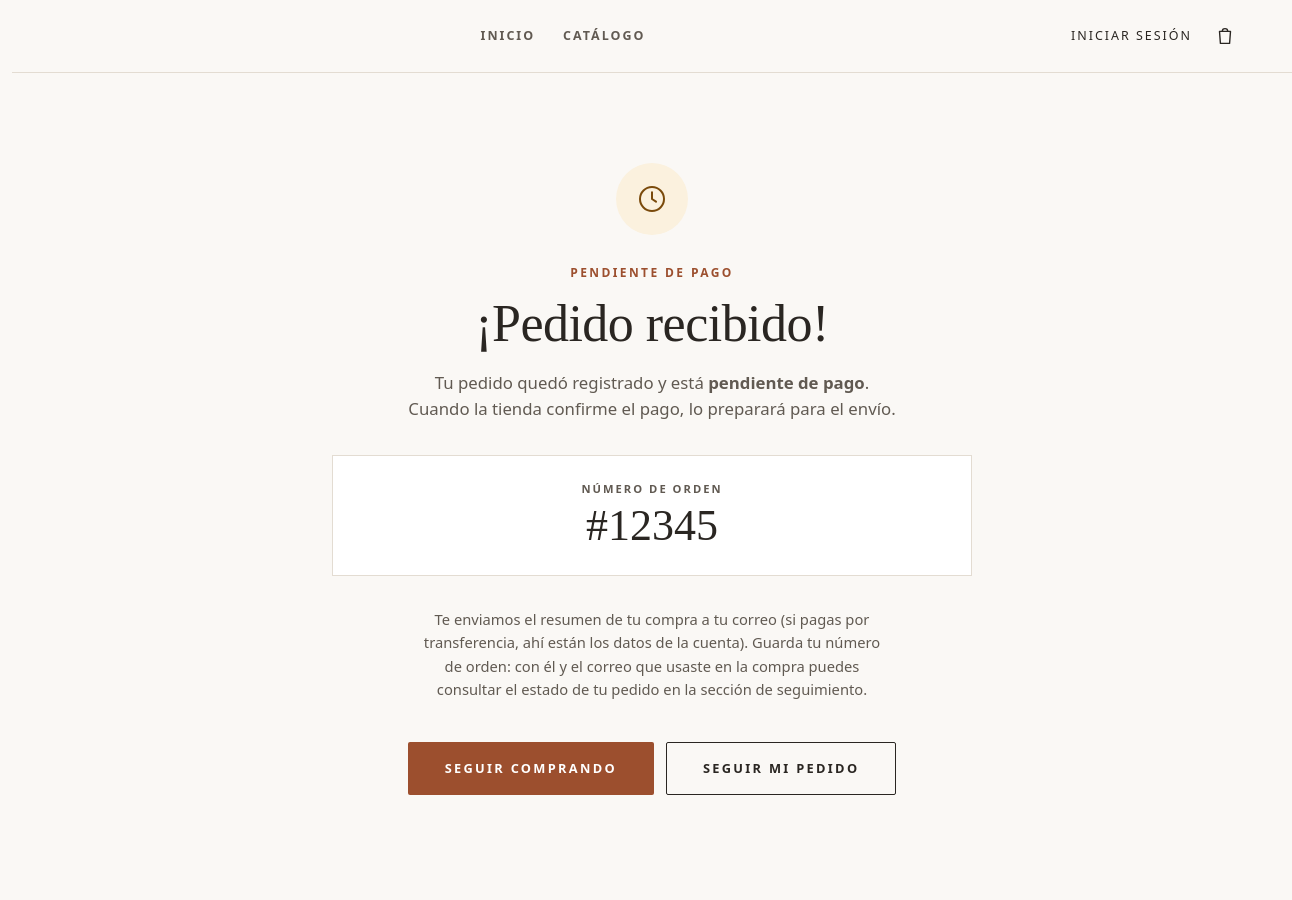
Test: PedidoRecibido › debe llevar al invitado al seguimiento de su pedido
Click the button "Seguir mi pedido" at (781, 768), box left=666, top=742, right=896, bottom=795
(page scrolled)
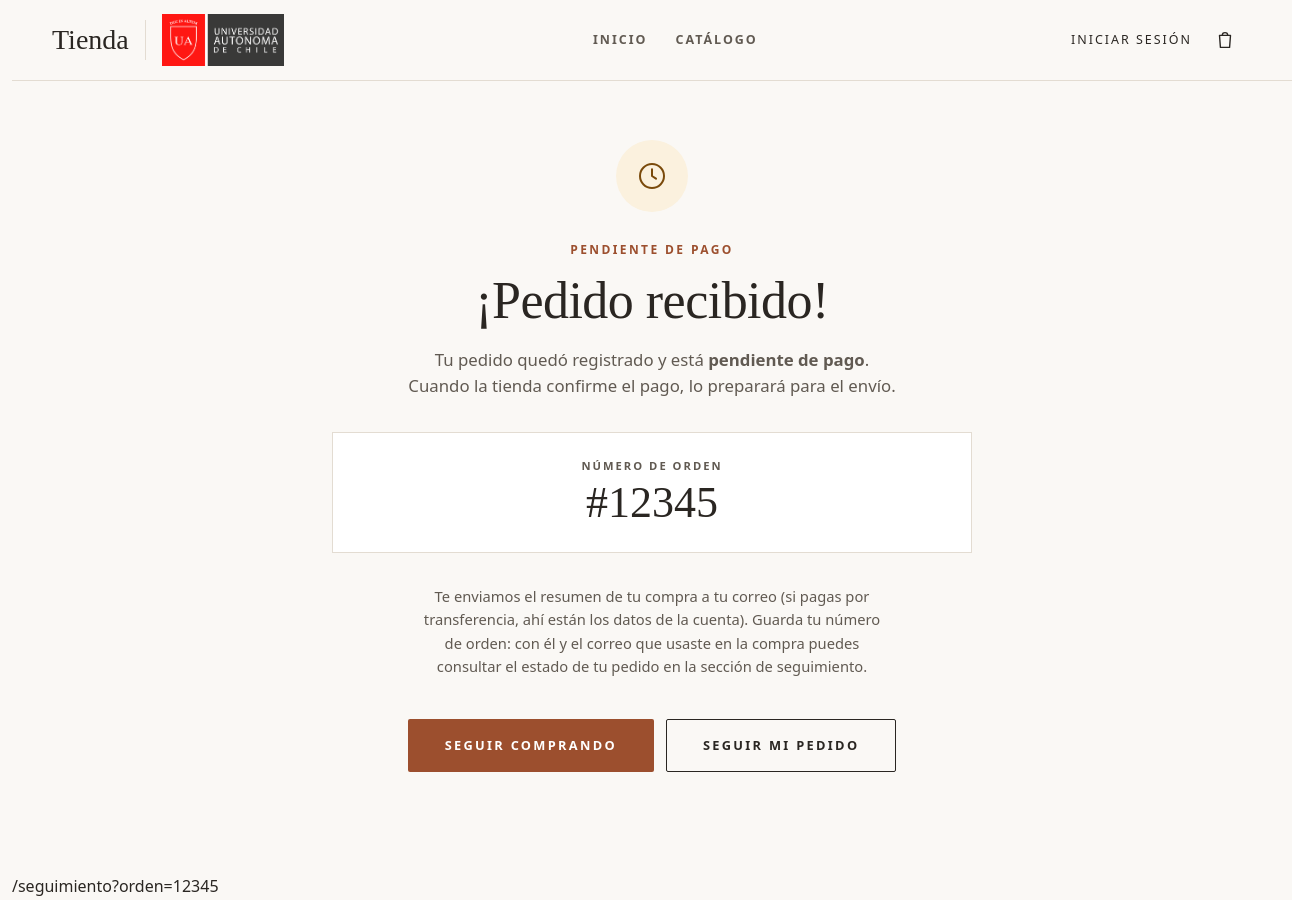
Expected: the text with test id "location" reads "/seguimiento?orden=12345", left=12, top=875, right=218, bottom=897
